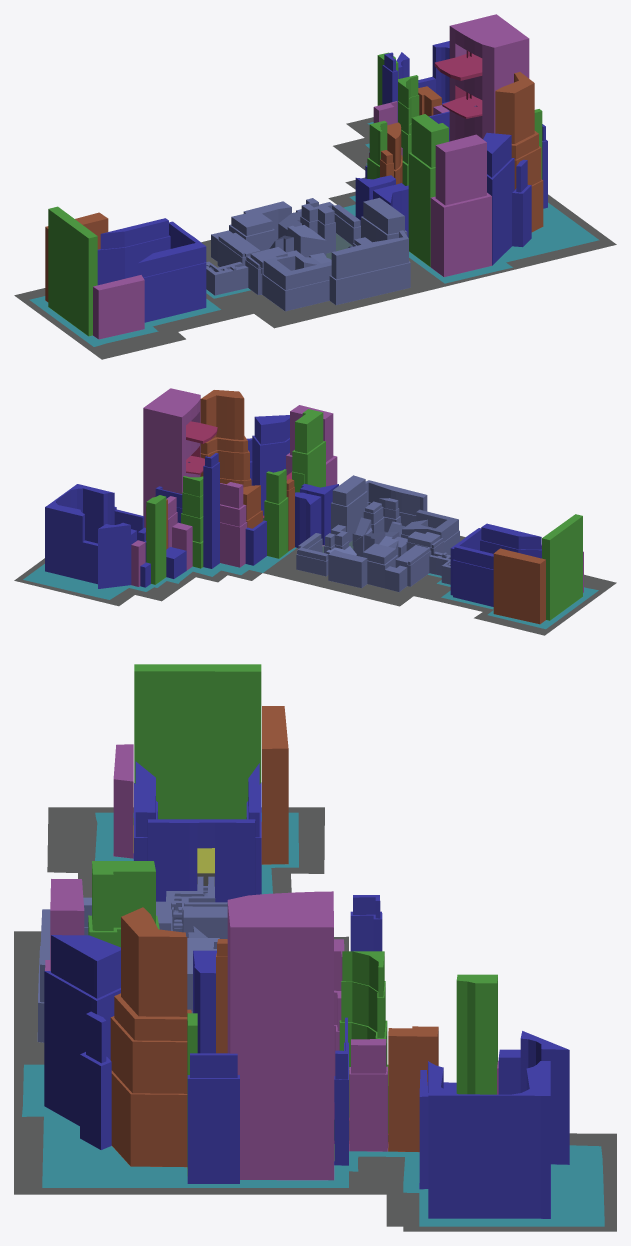
File: World-Whitebox - Advertising-Hell - Draft Final V6.fbx
3 renders of one model, top to bottom at view 1: azimuth 30°, elevation 25°; view 2: azimuth 150°, elevation 25°; view 3: azimuth 270°, elevation 25°, orthographic. The views are drawn at different scales.
Visible parts, largest first — view 1: 3D-Layout-Slums; view 2: 3D-Layout-Slums; view 3: 3D-Layout-Slums.
Part boxes in pixels (left/top/right/bottom): 3D-Layout-Slums: left=14, top=14, right=616, bottom=359; 3D-Layout-Slums: left=14, top=388, right=616, bottom=635; 3D-Layout-Slums: left=14, top=664, right=616, bottom=1231.
Size of the model in its own units: 70882 by 19821 by 42575.
